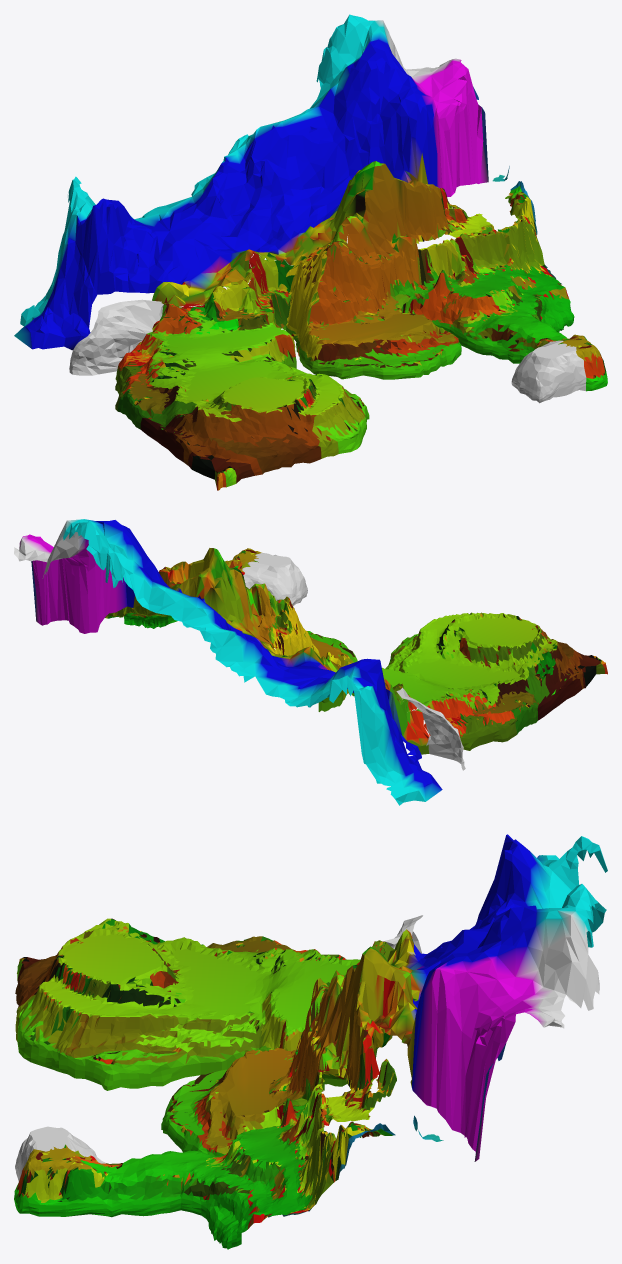
File: Fixed T-Cuarta Parte.FBX
3 renders of one model, top to bottom at view 1: azimuth 30°, elevation 25°; view 2: azimuth 150°, elevation 25°; view 3: azimuth 270°, elevation 25°, orthographic. The views are drawn at different scales.
Parts seen in each view (by area): view 1: z78, z74, z40, z31, z76, z48, z42, z47, z49, z75, z58, z55 (+22 smaller); view 2: z78, z75, z40, z71, z76, z70, z51, z73, z60, z59, z72, z57 (+3 smaller); view 3: z78, z57, z40, z31, z56, z39, z58, z60, z47, z46, z70, z37 (+17 smaller).
Boxes of the visible parts, left/top/right/bottom form: z78: left=14, top=14, right=488, bottom=375; z74: left=215, top=403, right=321, bottom=490; z40: left=511, top=334, right=607, bottom=403; z31: left=497, top=203, right=574, bottom=332; z76: left=162, top=401, right=241, bottom=489; z48: left=318, top=242, right=386, bottom=346; z42: left=421, top=237, right=489, bottom=331; z47: left=354, top=248, right=431, bottom=340; z49: left=309, top=339, right=405, bottom=379; z75: left=116, top=371, right=198, bottom=445; z58: left=295, top=386, right=364, bottom=458; z55: left=215, top=312, right=296, bottom=368; z78: left=14, top=519, right=465, bottom=805; z75: left=481, top=666, right=558, bottom=737; z40: left=225, top=548, right=307, bottom=605; z71: left=423, top=695, right=512, bottom=750; z76: left=523, top=630, right=607, bottom=705; z70: left=442, top=612, right=511, bottom=664; z51: left=257, top=591, right=308, bottom=655; z73: left=488, top=613, right=544, bottom=666; z60: left=419, top=648, right=493, bottom=689; z59: left=392, top=676, right=477, bottom=706; z72: left=468, top=659, right=526, bottom=696; z57: left=390, top=614, right=462, bottom=657; z78: left=316, top=834, right=607, bottom=1161; z57: left=51, top=978, right=172, bottom=1090; z40: left=14, top=1126, right=109, bottom=1216; z31: left=205, top=1127, right=348, bottom=1249; z56: left=165, top=998, right=263, bottom=1081; z39: left=99, top=1150, right=201, bottom=1217; z58: left=15, top=962, right=93, bottom=1069; z60: left=170, top=963, right=268, bottom=1006; z47: left=209, top=999, right=320, bottom=1117; z46: left=161, top=1087, right=237, bottom=1156; z70: left=71, top=950, right=177, bottom=1000; z37: left=239, top=1093, right=321, bottom=1184.
Bounding box in the file's own units: 13788 × 6943 × 11921.
